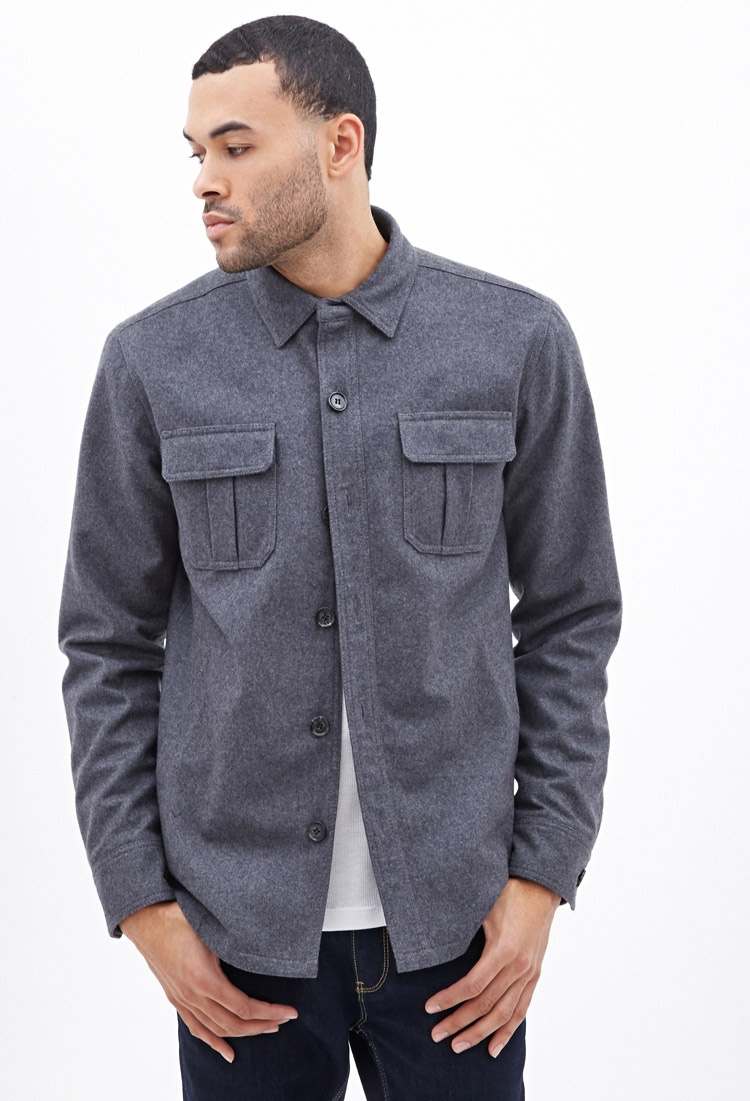S_shirt: (43, 204, 624, 984)
